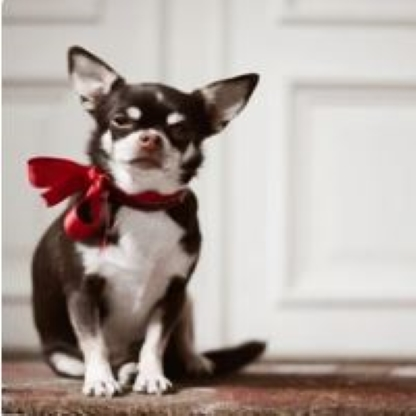chihuahua: (28, 43, 271, 397)
